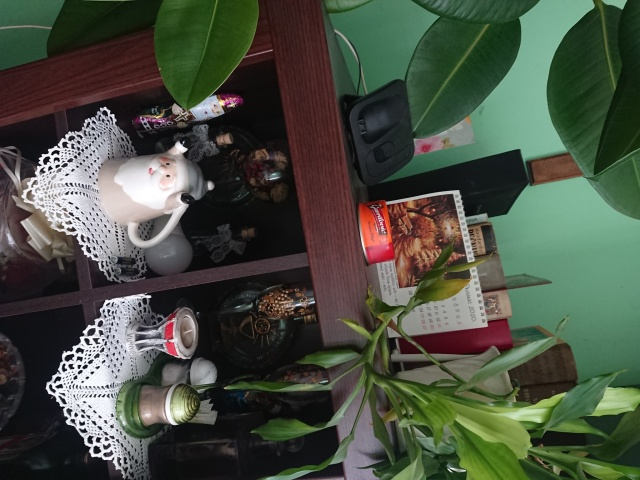Gavrilovic Pork Liver Pate 100g: (352, 198, 396, 267)
